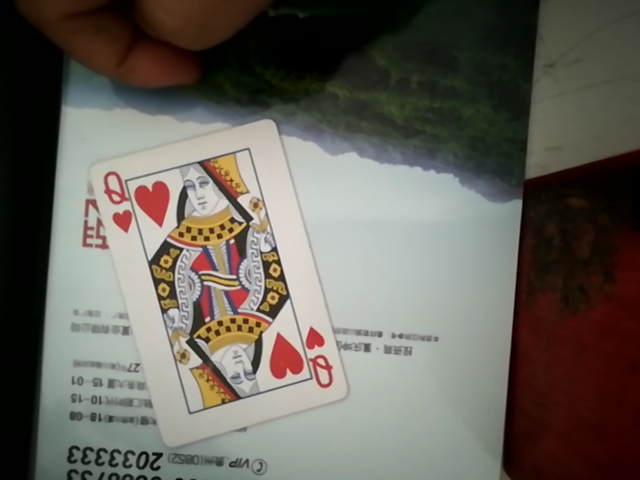hx q: (78, 118, 353, 458)
